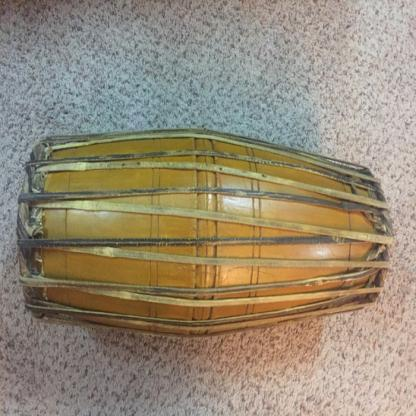Mridangam: (13, 122, 408, 362)
